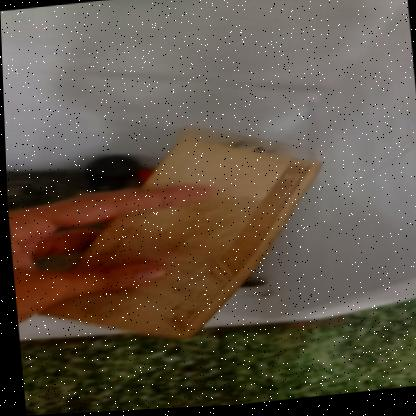five-back-vef: (21, 125, 334, 353)
